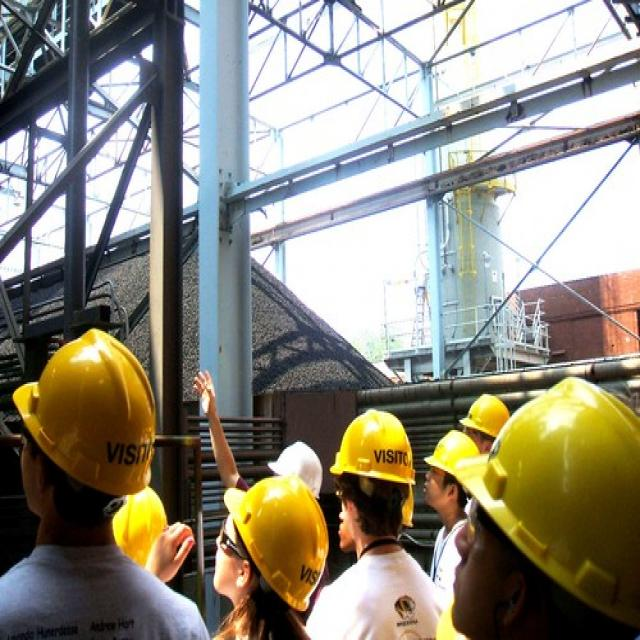Safety-Helmet: (464, 377, 640, 629), (10, 324, 165, 500), (224, 471, 332, 616), (330, 406, 418, 490), (424, 428, 490, 500), (457, 392, 511, 438)
